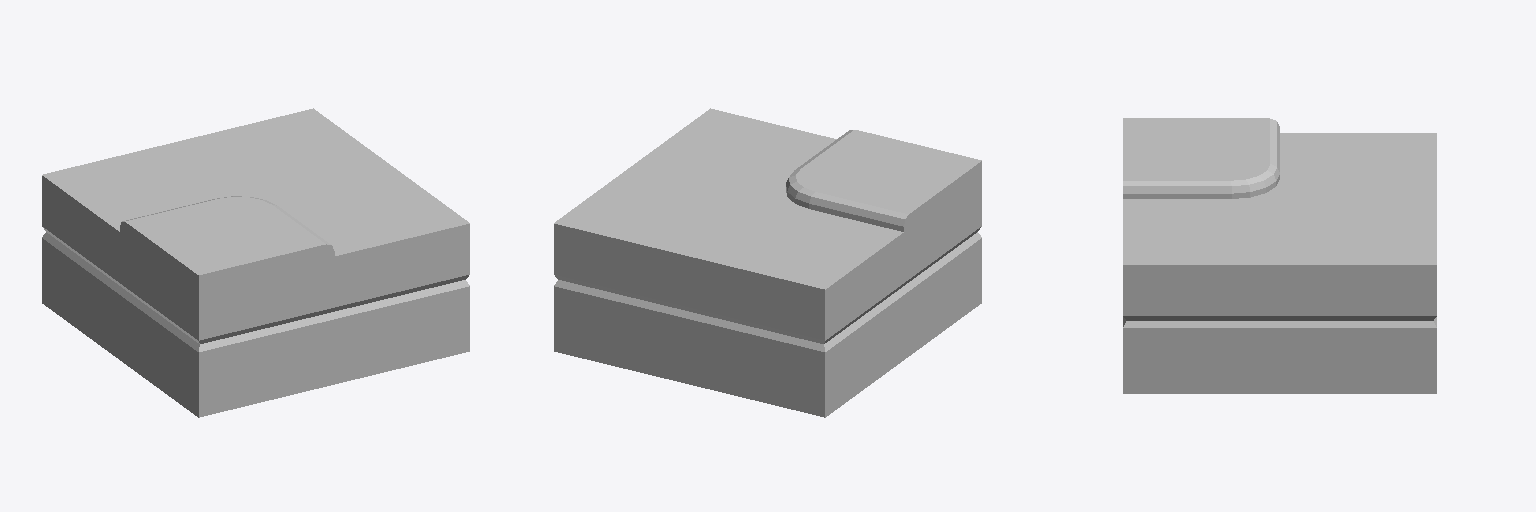
File: square_sand_waterOuterCorner.obj
3 renders of one model, left to right at view 1: azimuth 30°, elevation 25°; view 2: azimuth 150°, elevation 25°; view 3: azimuth 270°, elevation 25°, orthographic.
Parts seen in each view (by area): view 1: square_sand_waterOuterCorner_Cube.475; view 2: square_sand_waterOuterCorner_Cube.475; view 3: square_sand_waterOuterCorner_Cube.475.
Boxes of the visible parts, x1=… form: square_sand_waterOuterCorner_Cube.475: x1=42, y1=108, x2=469, y2=417; square_sand_waterOuterCorner_Cube.475: x1=554, y1=108, x2=981, y2=417; square_sand_waterOuterCorner_Cube.475: x1=1123, y1=118, x2=1436, y2=393.
Size of the model in its own units: 2 by 1 by 2.